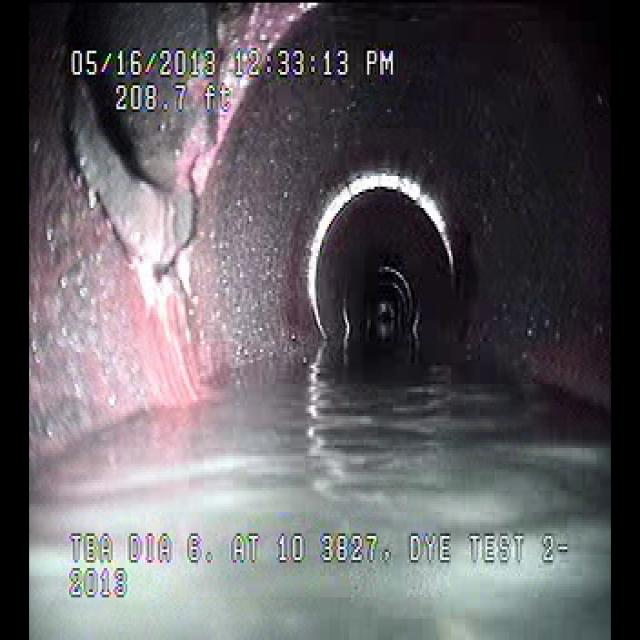Fracture: (58, 120, 238, 305)
